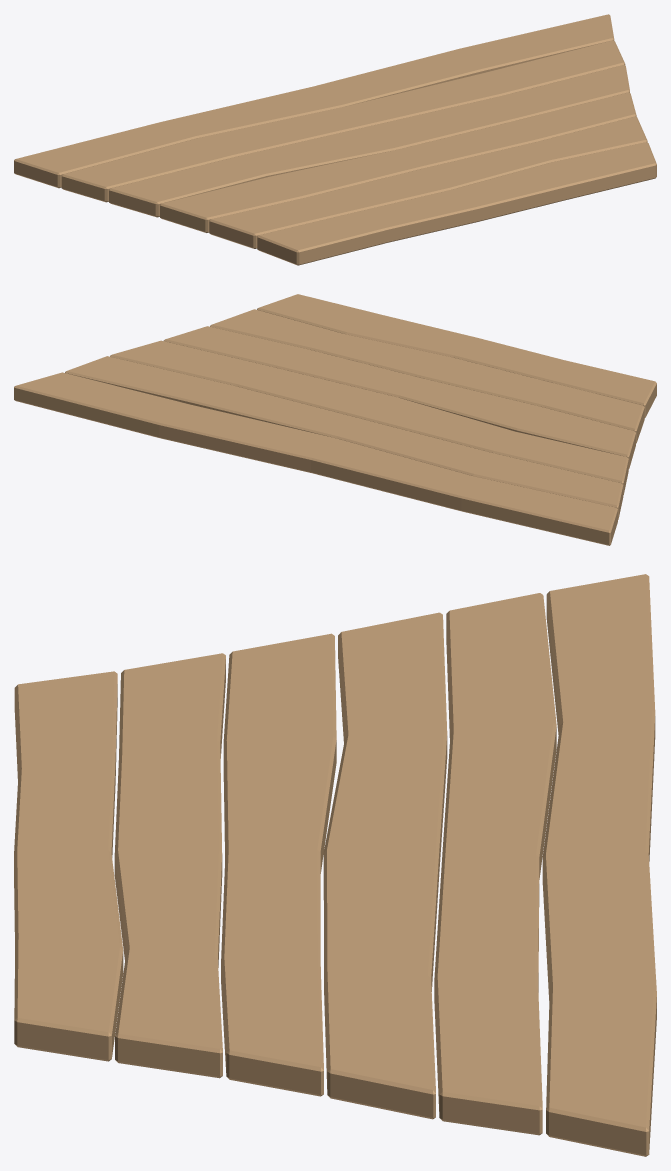
File: WindmillFloorPlanks.fbx
3 views of the same model, one above another, from view 1: azimuth 30°, elevation 25°; view 2: azimuth 150°, elevation 25°; view 3: azimuth 270°, elevation 25° (orthographic). The views are drawn at different scales.
Parts seen in each view (by area): view 1: polySurface7; view 2: polySurface7; view 3: polySurface7.
Boxes of the visible parts, x1,y1,x2,y2 form: polySurface7: [14, 14, 656, 265]; polySurface7: [14, 294, 656, 545]; polySurface7: [14, 574, 656, 1156].
Bounding box in the file's own units: 812 × 20 × 396.
1 material, 1 textured.
